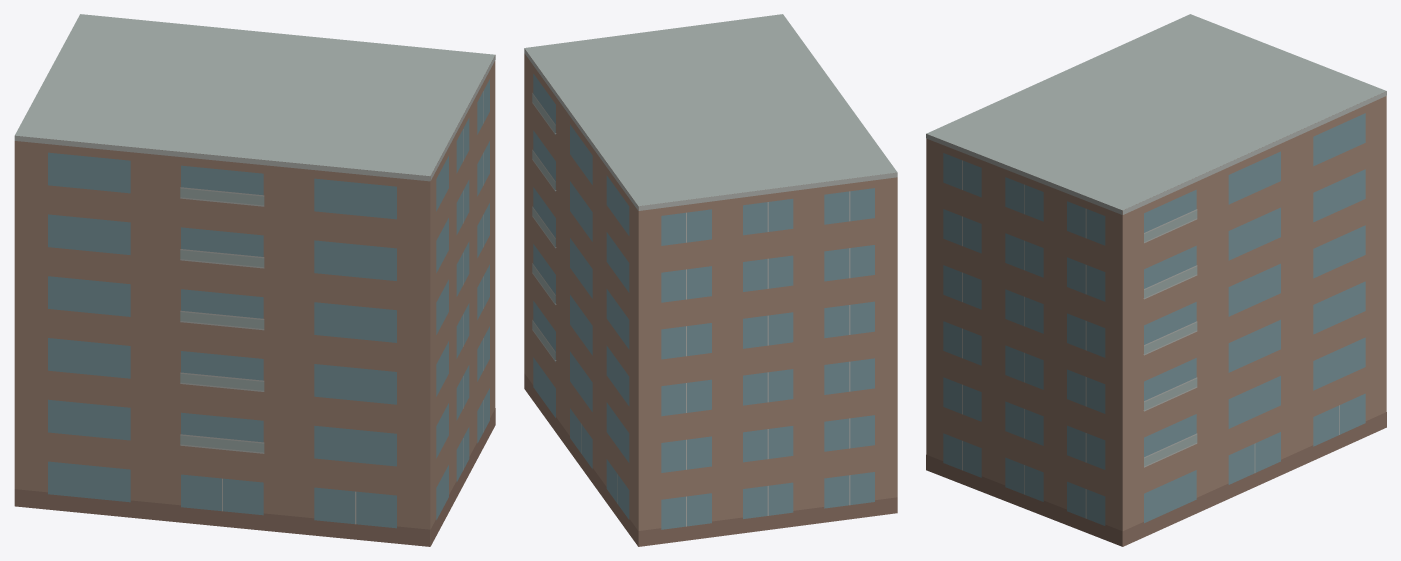
Rendered from survey-upis-32747771.glb.
3 views of the same model, side by side, from view 1: azimuth 30°, elevation 25°; view 2: azimuth 150°, elevation 25°; view 3: azimuth 270°, elevation 25° (orthographic). The views are drawn at different scales.
Visible parts, largest first — view 1: survey-upis-32747771.tmp; view 2: survey-upis-32747771.tmp; view 3: survey-upis-32747771.tmp.
Boxes of the visible parts, x1,y1,x2,y2 form: survey-upis-32747771.tmp: [14, 14, 495, 546]; survey-upis-32747771.tmp: [524, 14, 897, 546]; survey-upis-32747771.tmp: [926, 14, 1386, 546].
Bounding box in the file's own units: 21.8 × 17.4 × 21.6.
